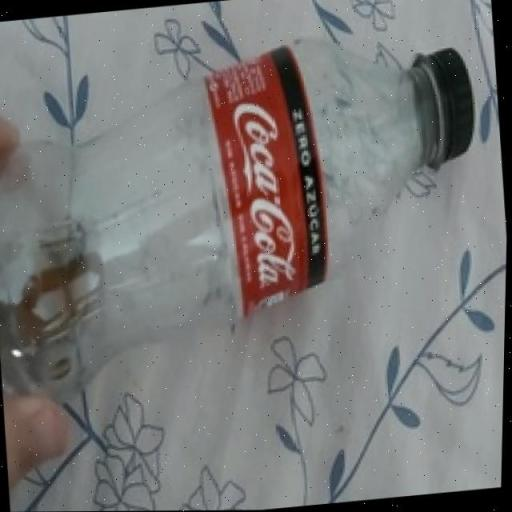plastic: (0, 41, 475, 400)
